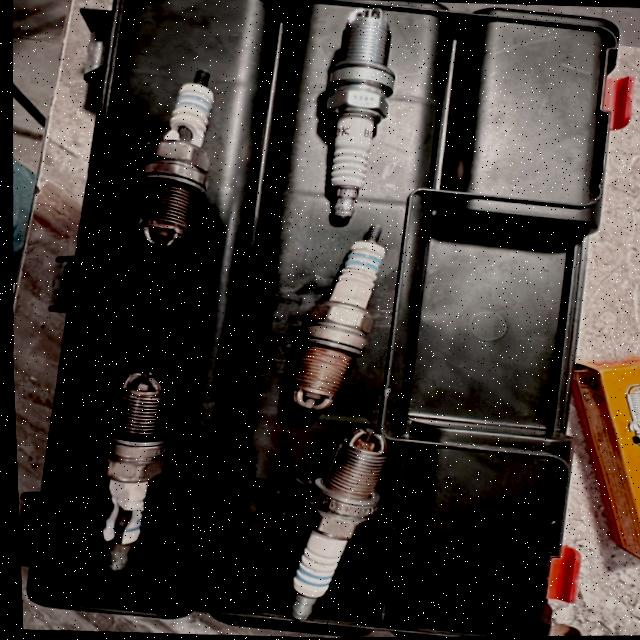damaged_spark-plug: (71, 361, 198, 578), (116, 60, 232, 251)
spark-plug: (269, 427, 393, 626), (295, 4, 403, 226), (271, 221, 391, 408)
